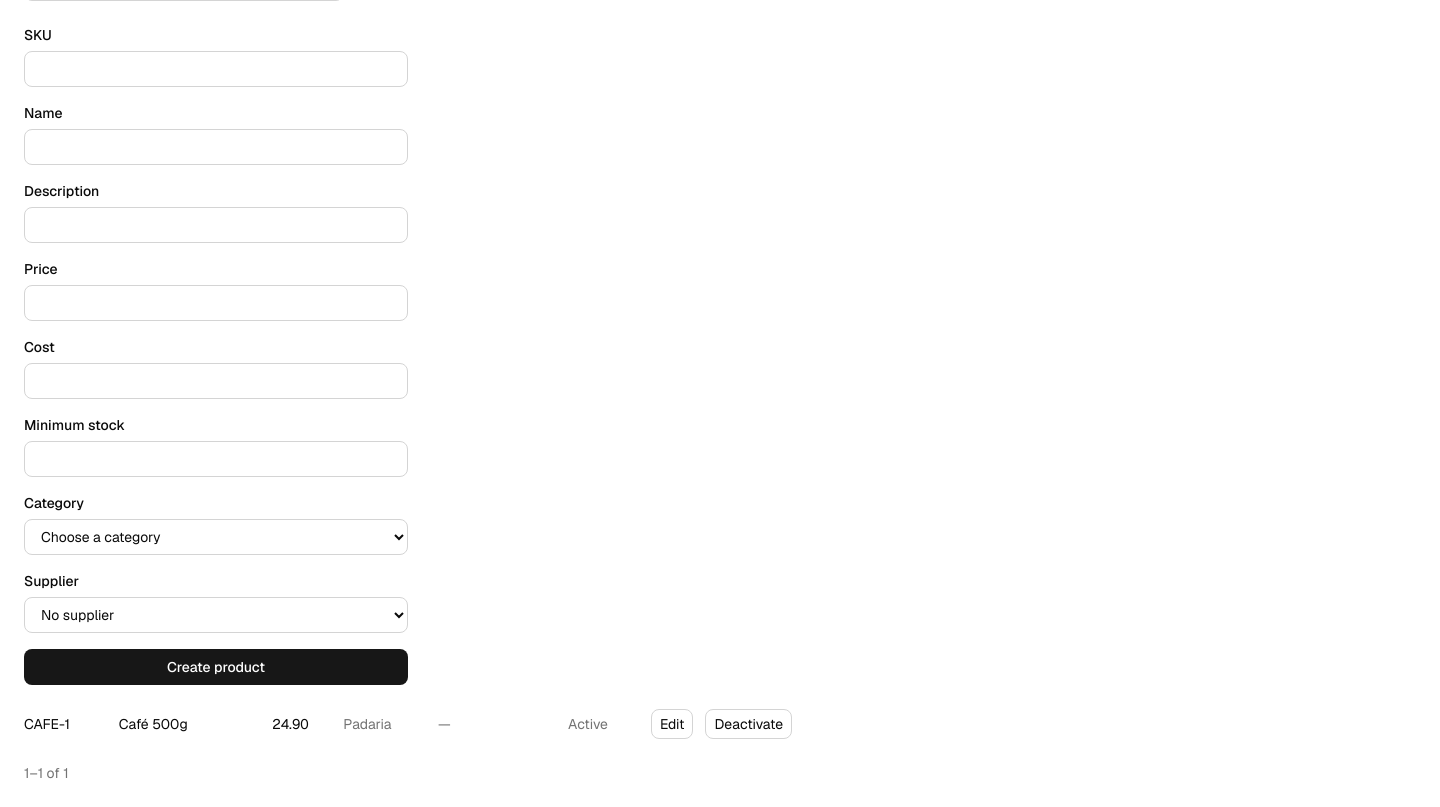
it: products panel › a refused status change surfaces as a toast, never inside the form
The width and height of the screenshot is (1440, 807).
(page scrolled)
Expected: the text "CAFE-1" is shown, [24,715,70,733]
What coordinates should you click on to do the following:
click the button with aria-label "Deactivate Café 500g"
I would click on:
 (749, 724)
Its box is [706,709,792,739].
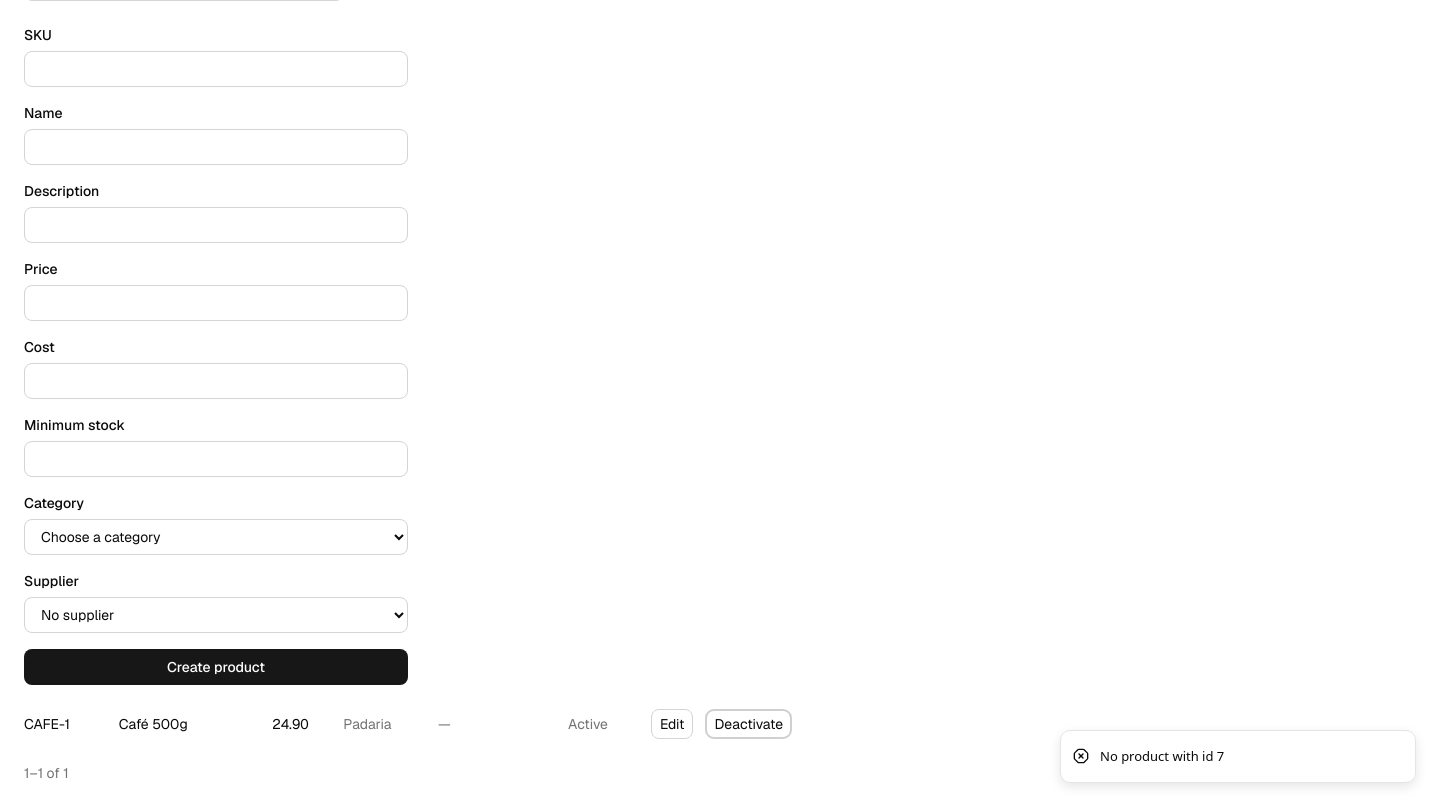
Expected: the text "No product with id 7" is shown, [1100,746,1224,766]
